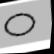no answer: (0, 8, 42, 42)
